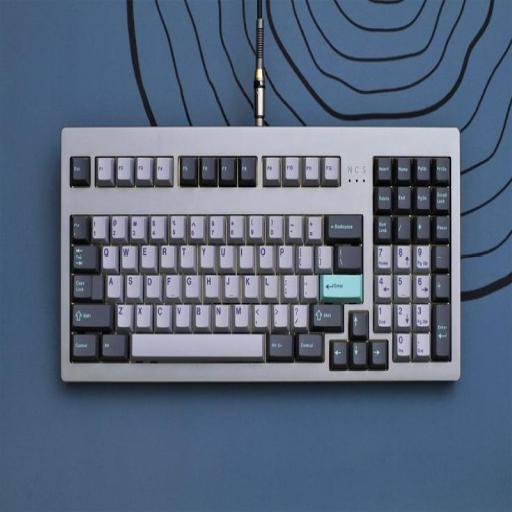KEYBOARD-2: (59, 127, 460, 381)
